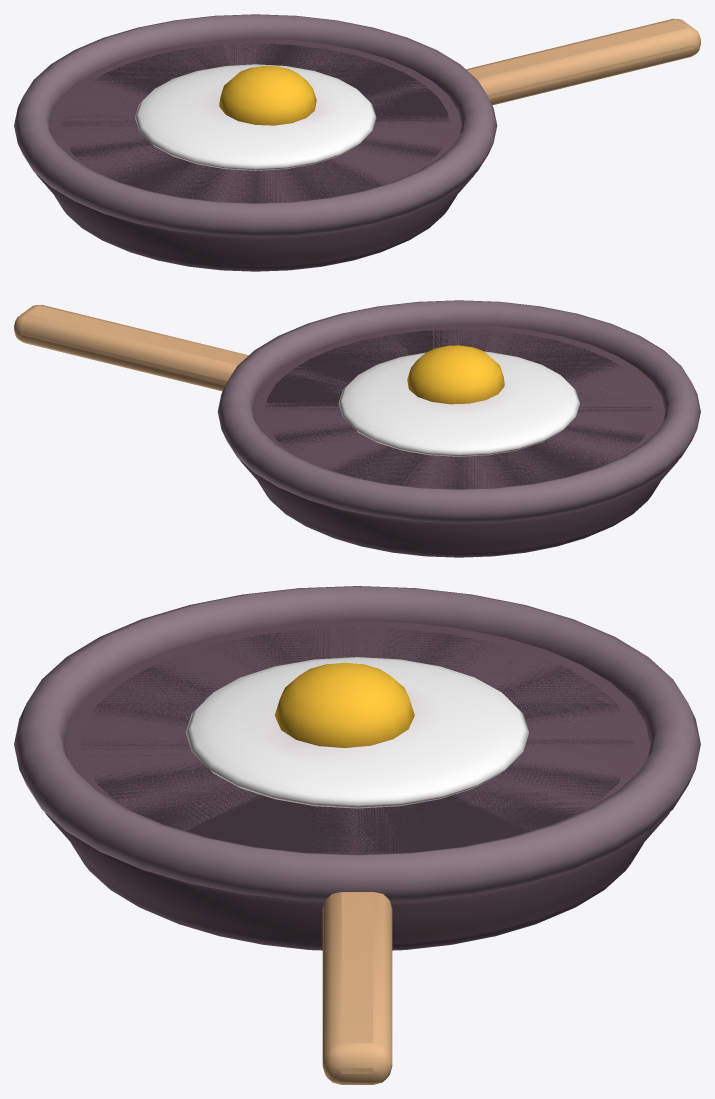
File: pan.glb
3 renders of one model, top to bottom at view 1: azimuth 30°, elevation 25°; view 2: azimuth 150°, elevation 25°; view 3: azimuth 270°, elevation 25°, orthographic. The views are drawn at different scales.
Parts seen in each view (by area): view 1: body, rim, inside, white, handle, yolk; view 2: body, rim, inside, white, handle, yolk; view 3: body, rim, inside, white, handle, yolk.
Part boxes in pixels (x1,y1,x2,y2): body: (35, 38, 475, 271); rim: (14, 14, 497, 236); inside: (61, 43, 449, 203); white: (135, 64, 376, 170); handle: (466, 18, 700, 105); yolk: (219, 66, 316, 125); body: (239, 324, 679, 557); rim: (217, 300, 700, 522); inside: (265, 329, 653, 489); white: (338, 351, 579, 456); handle: (14, 304, 248, 391); yolk: (407, 345, 504, 404); body: (45, 620, 669, 950); rim: (14, 586, 700, 901); inside: (81, 627, 633, 854); white: (186, 657, 528, 808); handle: (322, 892, 392, 1084); yolk: (275, 662, 414, 748).
Bounding box in the file's own units: 1.67 × 0.297 × 1.08.
